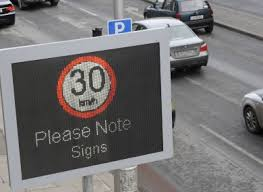sp30: (52, 60, 126, 118)
